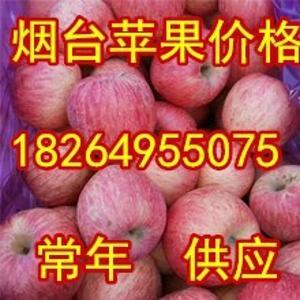apple: (164, 185, 261, 287), (75, 165, 167, 259), (1, 206, 86, 298), (152, 30, 229, 108), (65, 74, 160, 137), (222, 72, 296, 150), (11, 57, 82, 128), (249, 165, 300, 241)
